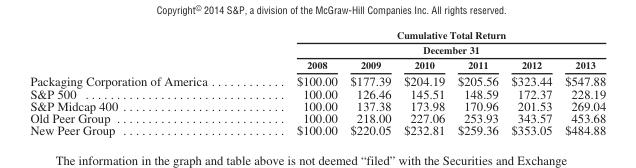table: (29, 28, 605, 136)
table column: (29, 28, 251, 136), (251, 28, 343, 136), (396, 28, 450, 136), (450, 28, 504, 136), (343, 28, 396, 136), (504, 28, 557, 136), (557, 28, 605, 136)
table column header: (29, 28, 605, 72)
table row: (29, 28, 605, 57), (29, 57, 605, 72), (29, 72, 605, 87), (29, 123, 605, 136), (29, 87, 605, 99), (29, 99, 605, 111), (29, 111, 605, 123)
table spanning cell: (251, 28, 605, 57)
